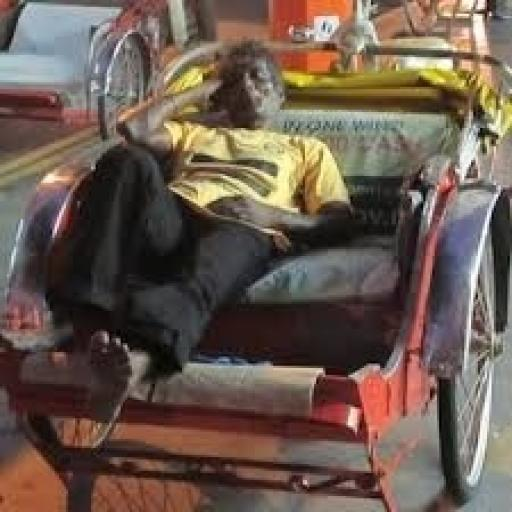sleeping: (48, 37, 360, 377)
